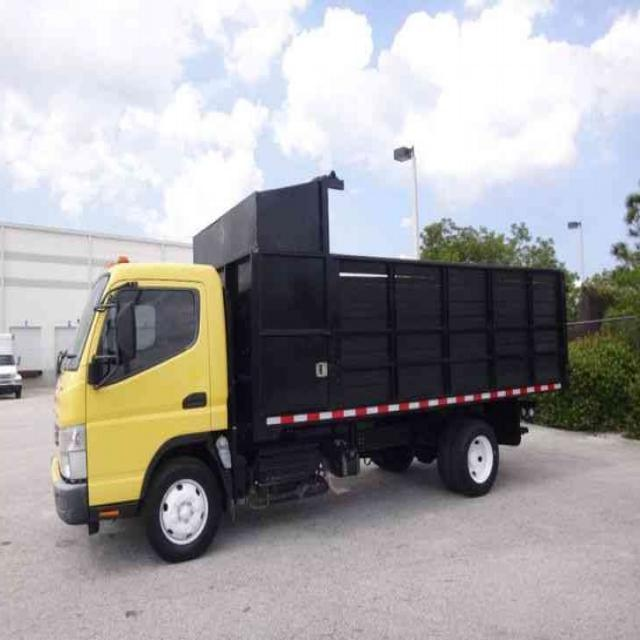Truck: (52, 251, 567, 557)
